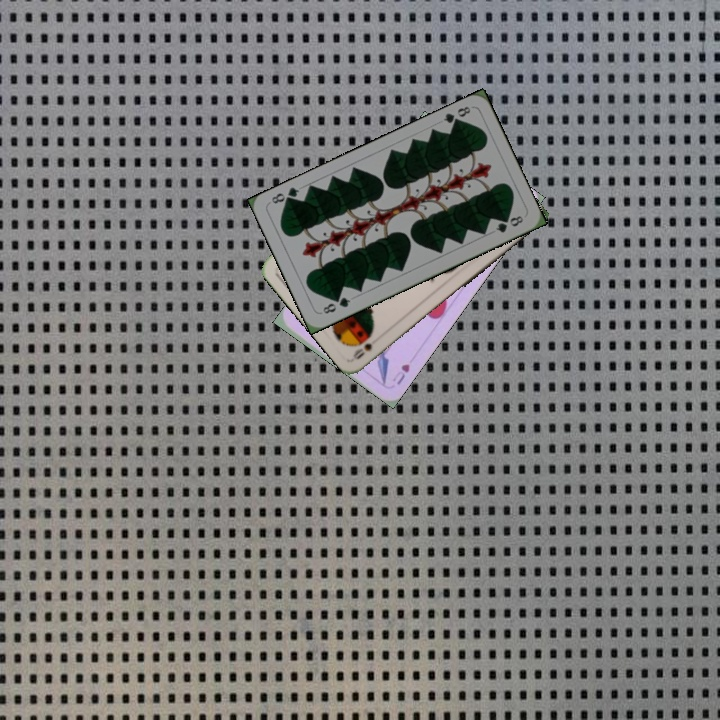G8: (439, 102, 473, 129), (317, 293, 353, 316)
HU: (388, 360, 412, 387)
SO: (349, 339, 375, 362)
